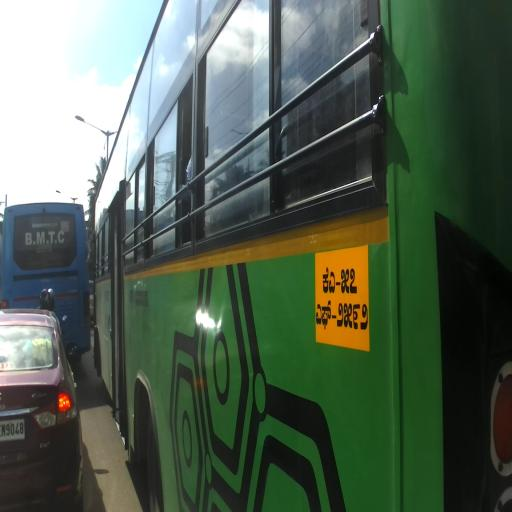street_light_0: (73, 115, 109, 145), (55, 189, 75, 204), (74, 194, 94, 204)
